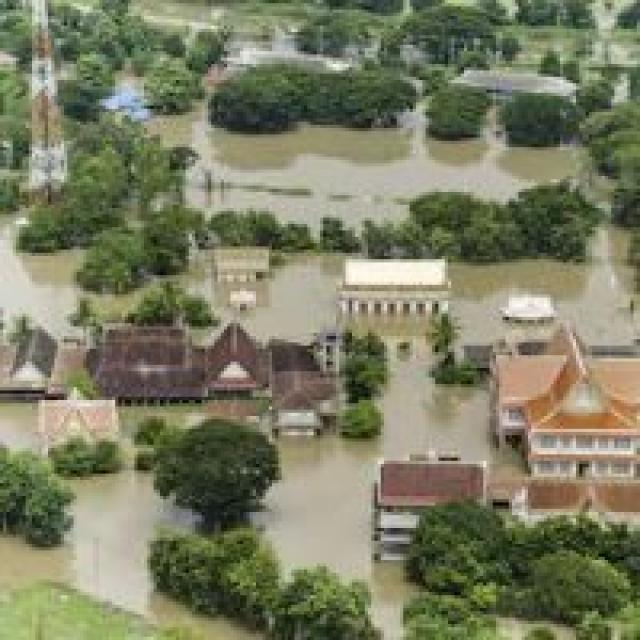flooded_areas: (0, 58, 634, 592)
